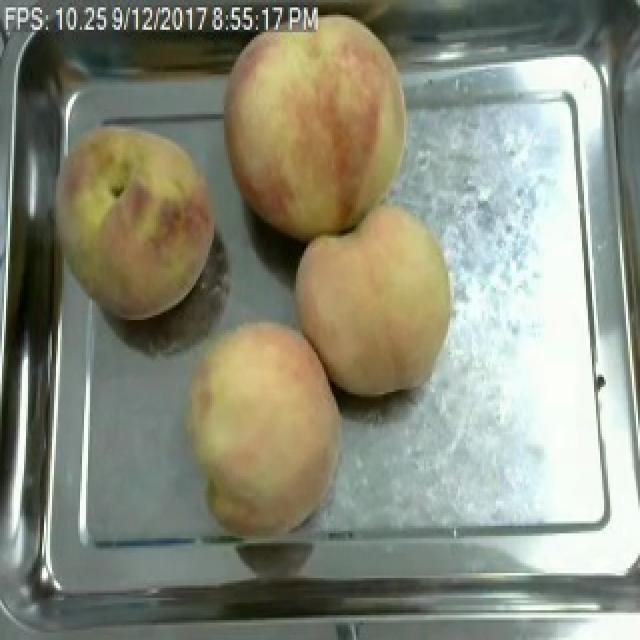Fruit: (212, 2, 416, 250), (174, 308, 352, 543), (40, 112, 228, 330), (284, 198, 464, 402)
